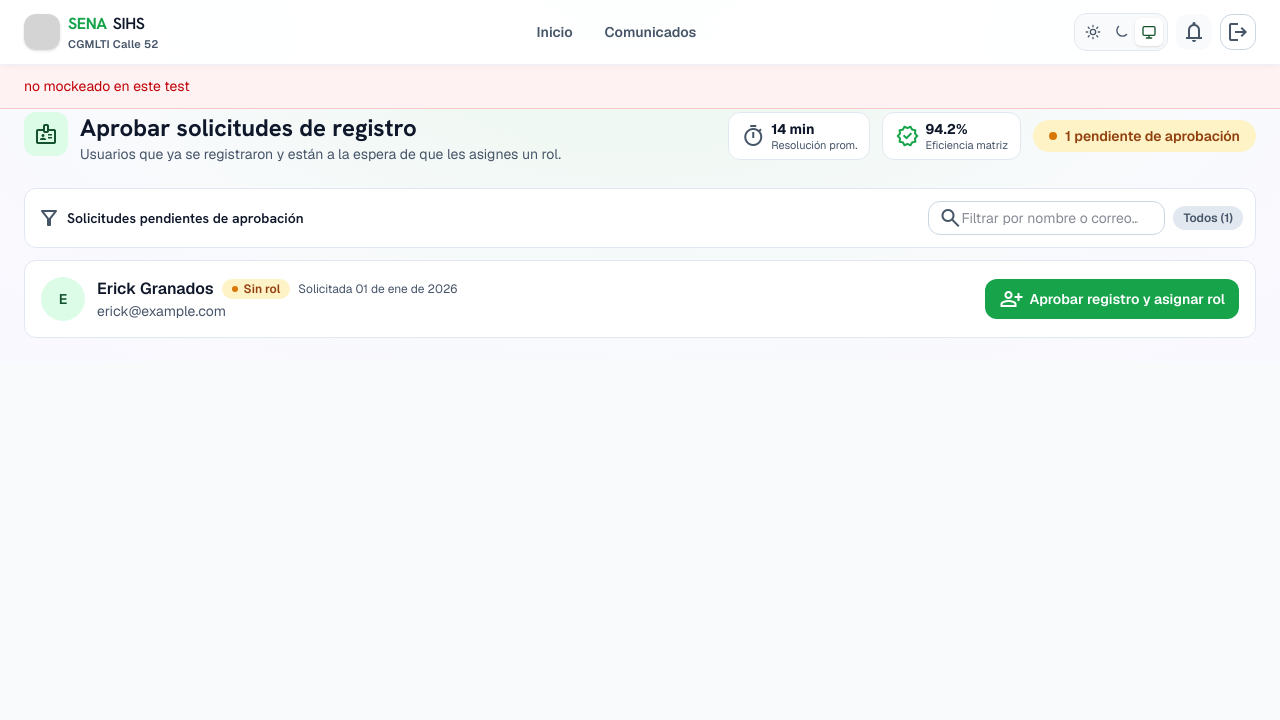
Test: AprobarlicitarSolicitudes › al aprobar el rol Instructor, genera su código automáticamente y lo muestra
Step 1. Click the button "Aprobar registro y asignar rol" → [1112, 299], box [986,279,1239,319]
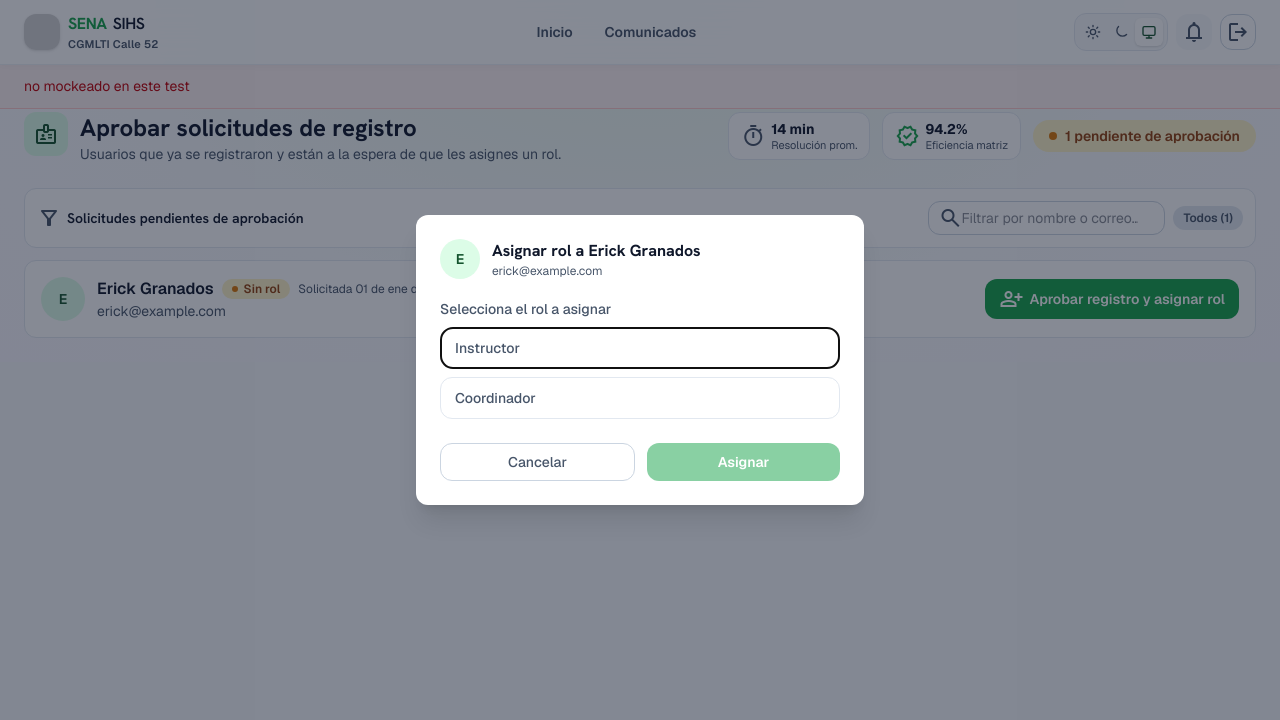
Step 2. Click the button "Instructor" → [487, 348], box [440,327,840,369]
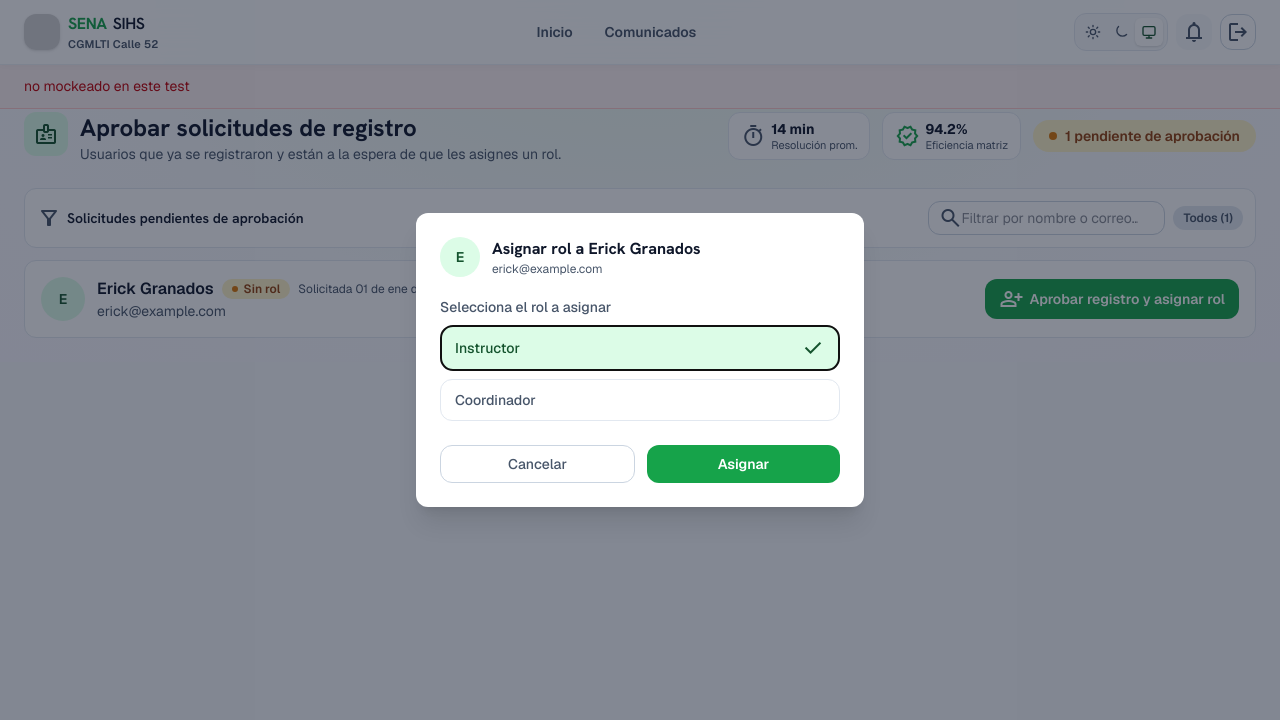
Step 3. Click the button "Asignar" → [744, 464], box [647,445,840,483]
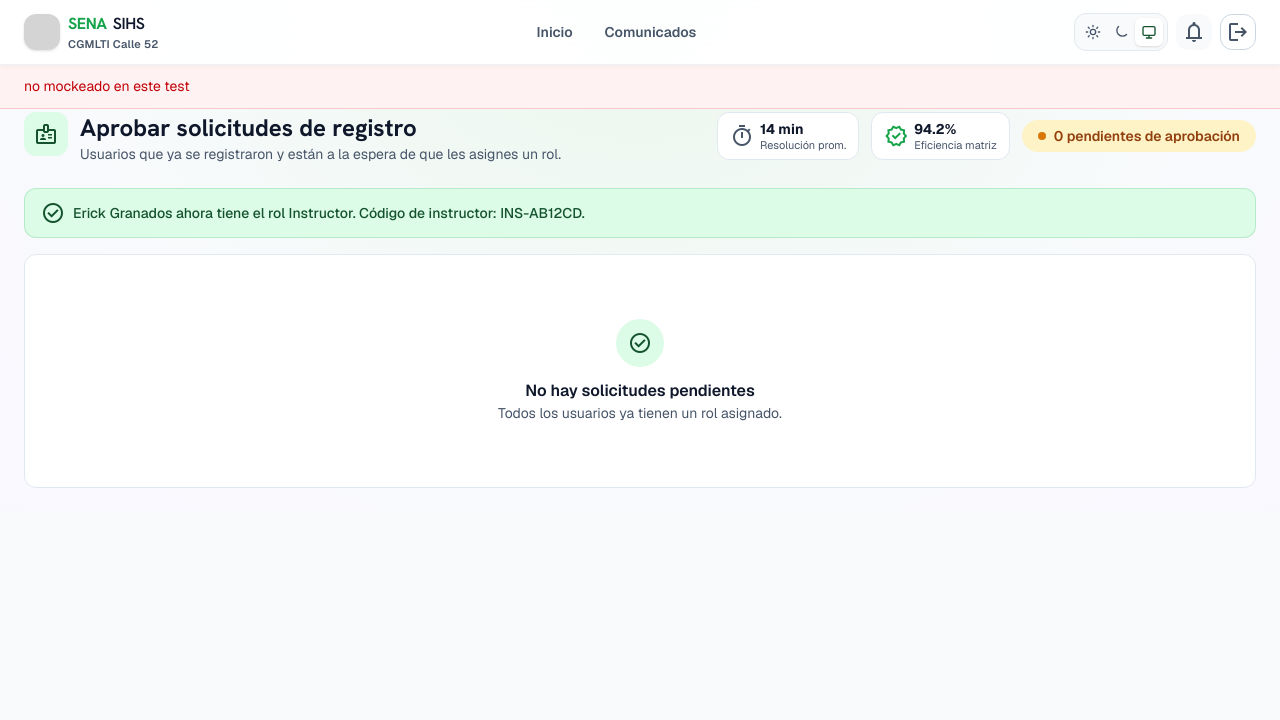
Check: the text "Código de instructor: INS-AB12CD." is shown, box [73,204,585,222]
